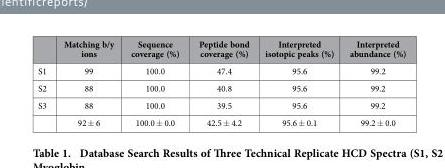table: (37, 37, 405, 128)
table column: (256, 37, 341, 128), (188, 37, 256, 128), (54, 37, 121, 128), (121, 37, 188, 128), (341, 37, 405, 128), (37, 37, 54, 128)
table column header: (37, 37, 405, 61)
table row: (37, 37, 405, 61), (37, 61, 405, 79), (37, 79, 405, 96), (37, 96, 405, 113), (37, 113, 405, 128)
table spanning cell: (37, 96, 54, 128)
